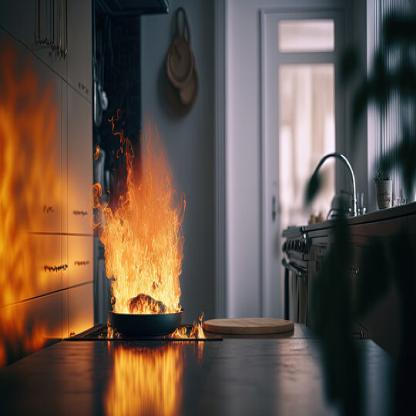fire: (95, 111, 186, 315)
